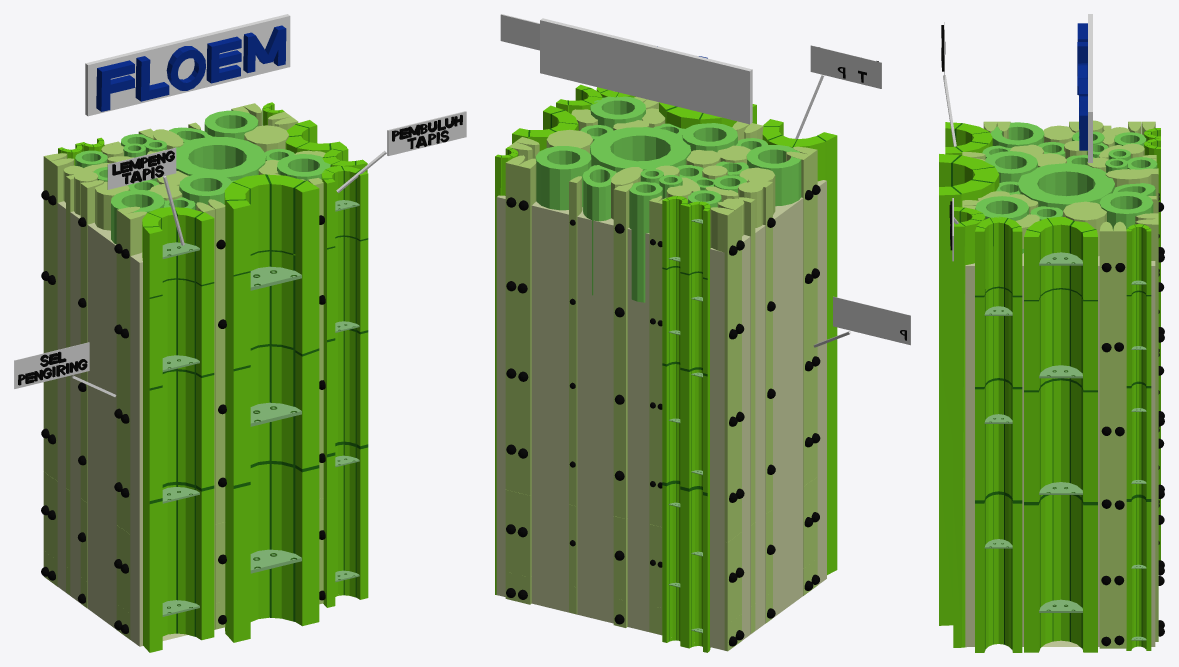
The model's file is phloem.glb.
The picture shows the model from 3 angles, left to right: view 1: azimuth 30°, elevation 25°; view 2: azimuth 150°, elevation 25°; view 3: azimuth 270°, elevation 25°; orthographic projection. The views are drawn at different scales.
Parts seen in each view (by area): view 1: New_Game_Object (×33); view 2: New_Game_Object (×35); view 3: New_Game_Object (×29).
Part boxes in pixels (x1=…): New_Game_Object (×33): x1=14, y1=14, x2=466, y2=652; New_Game_Object (×35): x1=495, y1=14, x2=910, y2=652; New_Game_Object (×29): x1=939, y1=14, x2=1164, y2=652.
Bounding box in the file's own units: 2.56 × 3.12 × 1.19.
